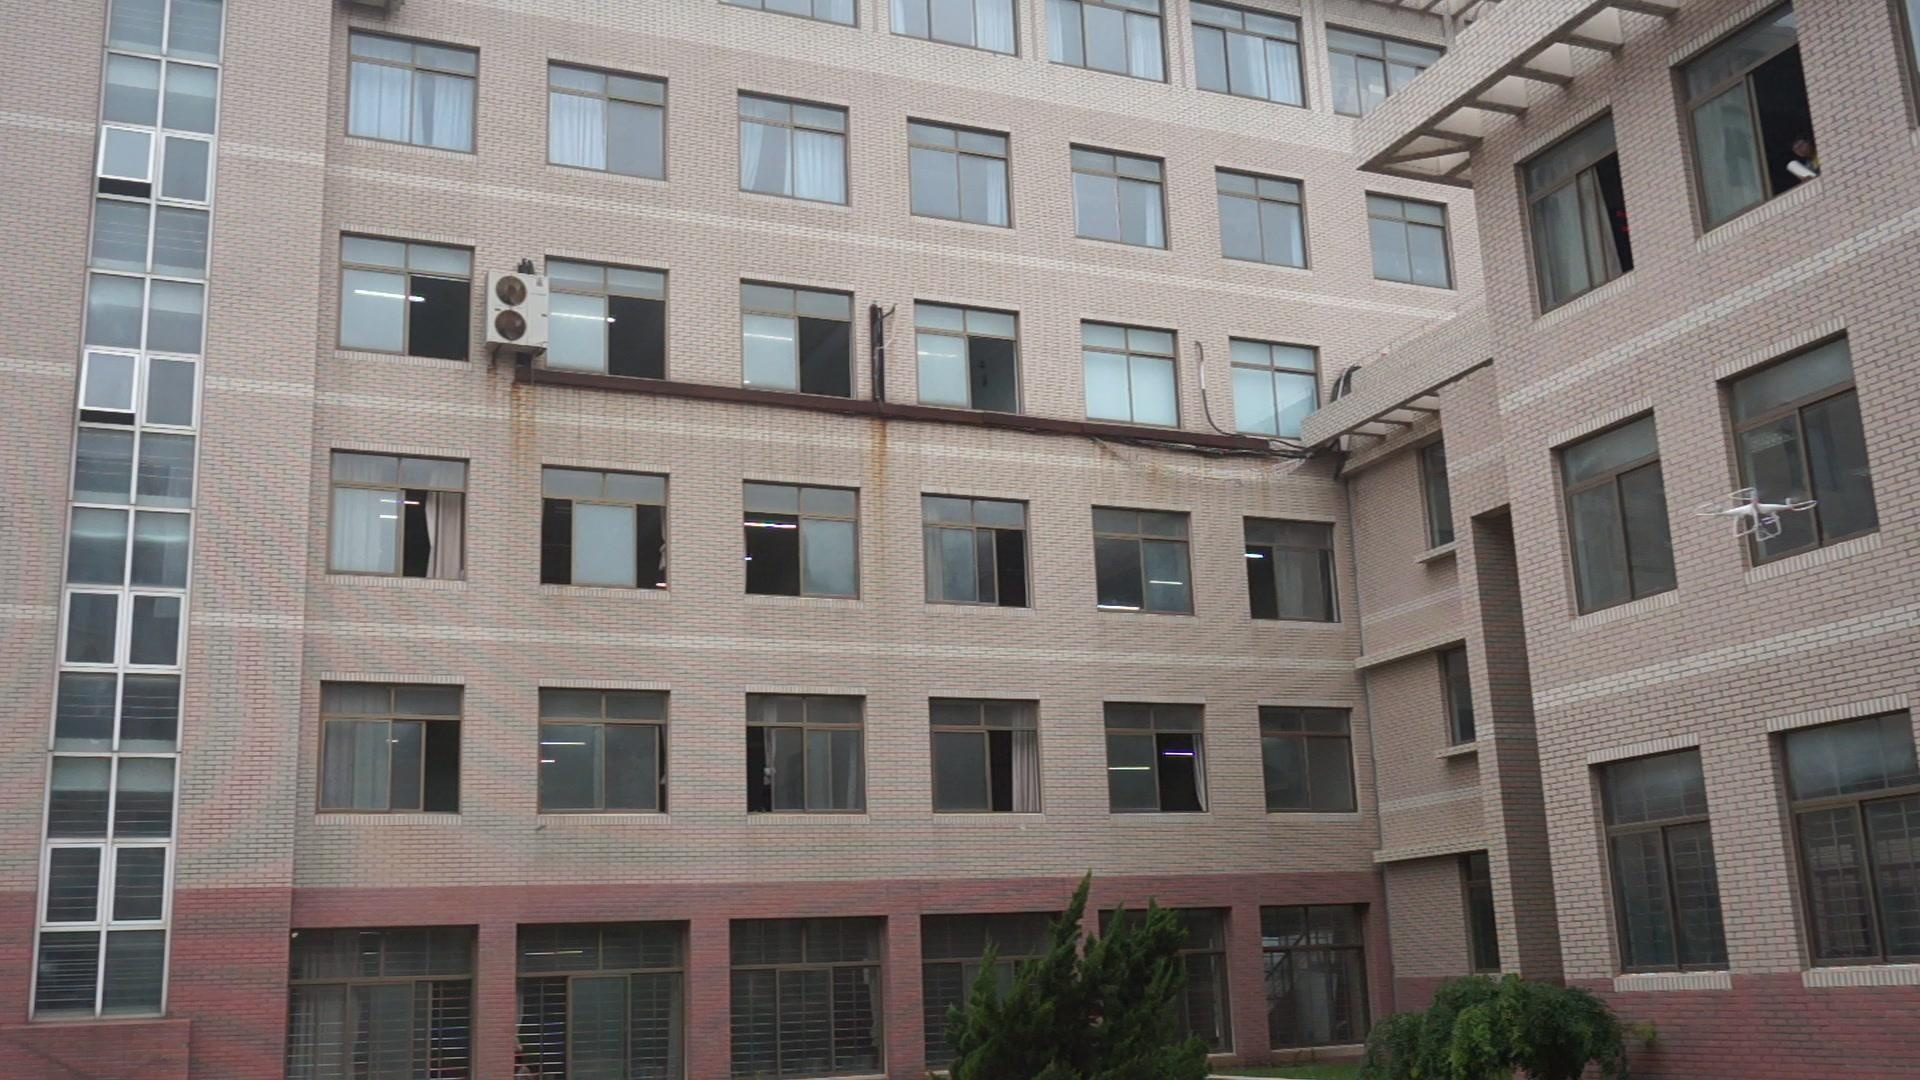UAV: (1693, 488, 1818, 542)
